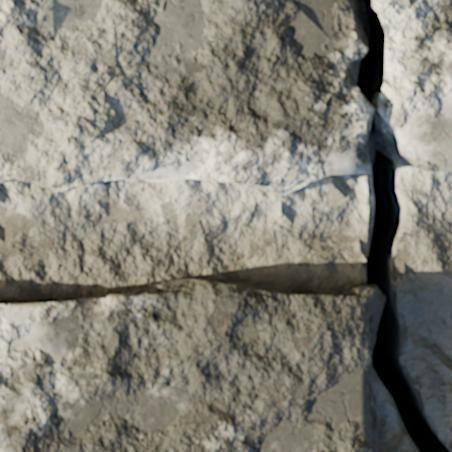brick: (0, 278, 383, 451)
broken_brick: (0, 0, 372, 195), (373, 0, 451, 172)
crack: (350, 0, 451, 451)
